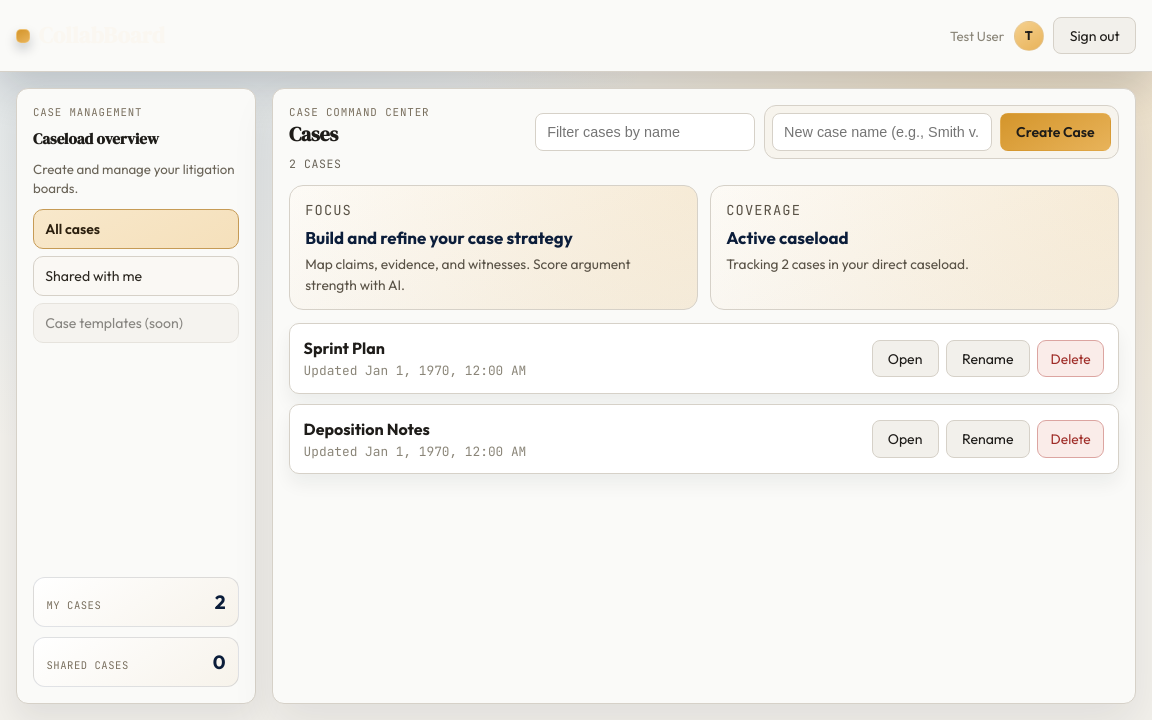
Test: Dashboard › filters owned cases by a case-insensitive search query
The image size is (1152, 720).
Type "depos" into the field with placeholder "Filter cases by name" at (645, 132), box [535,113,755,151]
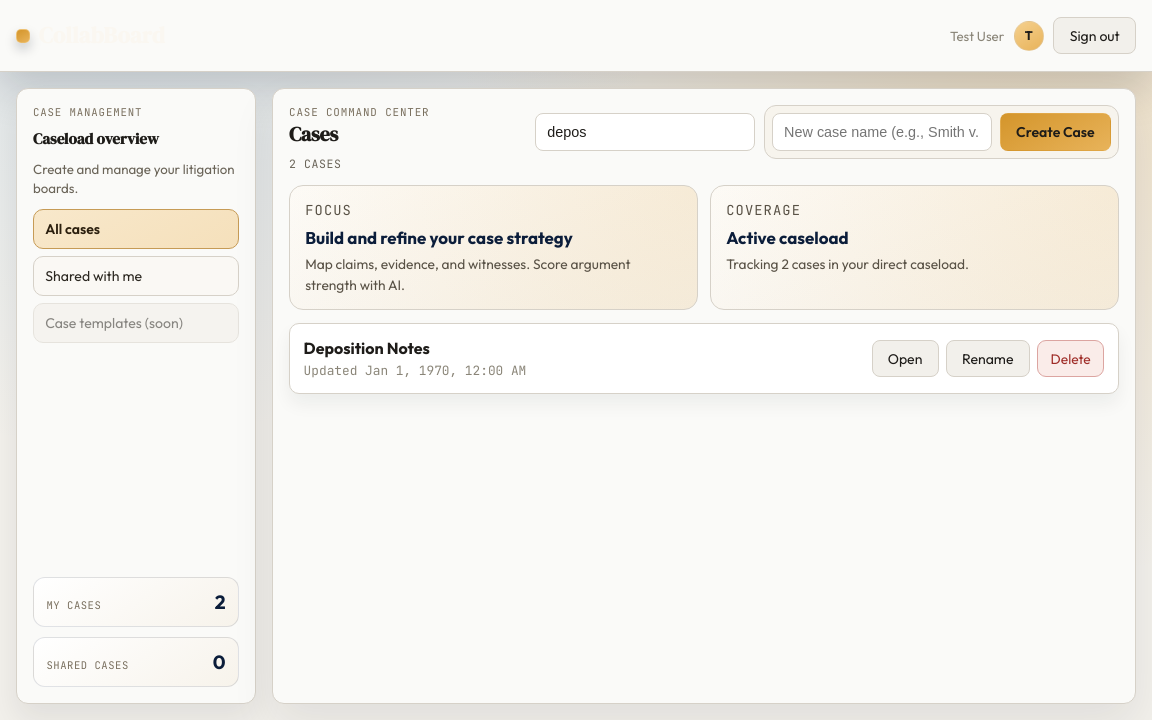
Expected: the heading "Deposition Notes" is shown, [304,338,430,358]
Result: the heading "Sprint Plan" is gone
